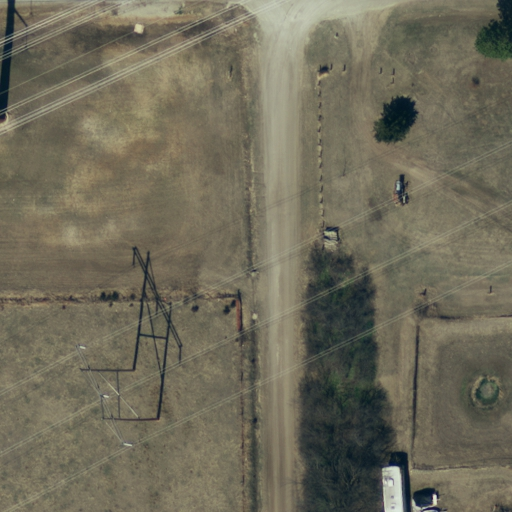TT: (69, 342, 163, 452)
